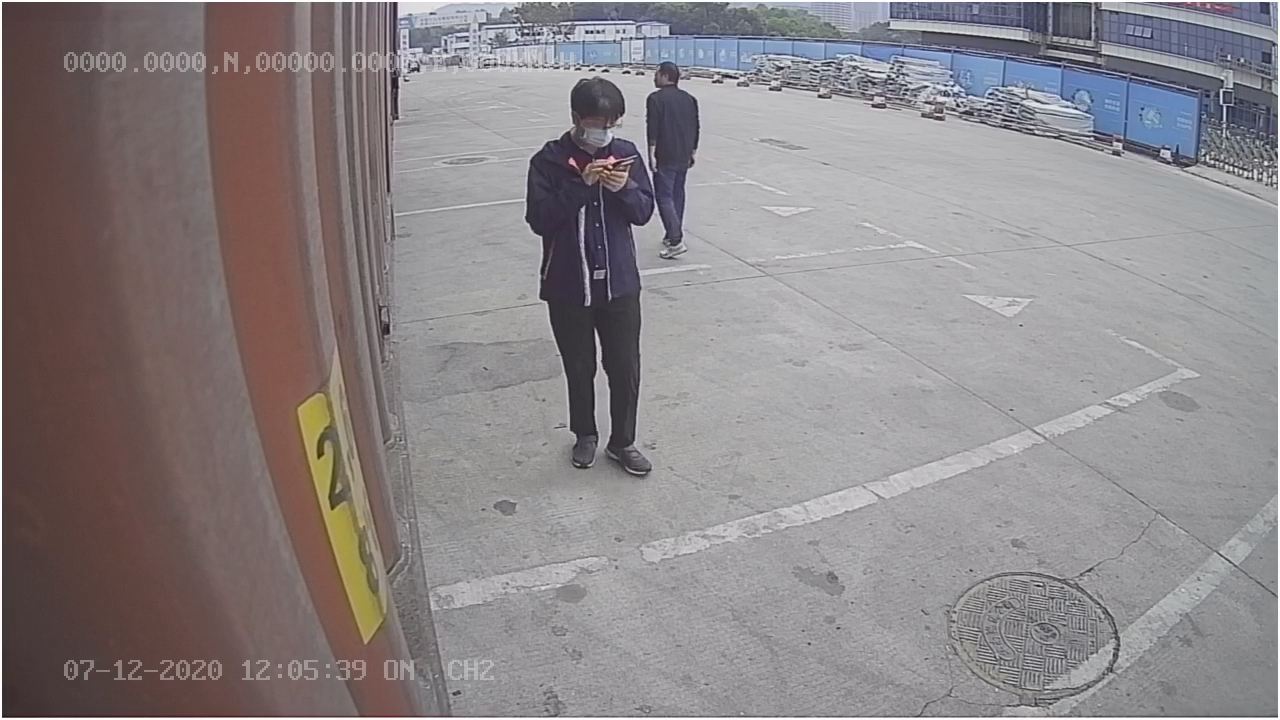person: (523, 80, 655, 478)
